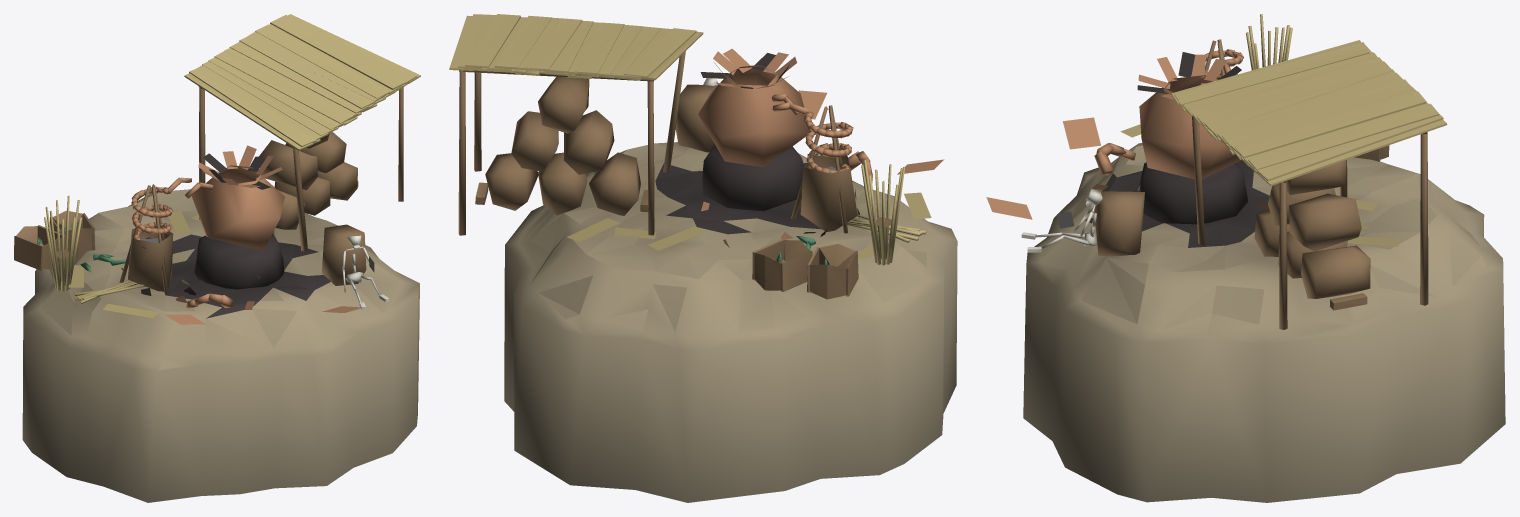
Rendered from rum_still_far.5f8ff3a3.glb.
3 renders of one model, left to right at view 1: azimuth 30°, elevation 25°; view 2: azimuth 150°, elevation 25°; view 3: azimuth 270°, elevation 25°, orthographic. The views are drawn at different scales.
Parts seen in each view (by area): view 1: rum_still; view 2: rum_still; view 3: rum_still.
Part boxes in pixels (x1=…): rum_still: x1=14, y1=14, x2=420, y2=502; rum_still: x1=449, y1=14, x2=957, y2=502; rum_still: x1=986, y1=14, x2=1505, y2=502.
Bounding box in the file's own units: 7.34 × 5.72 × 7.07.
